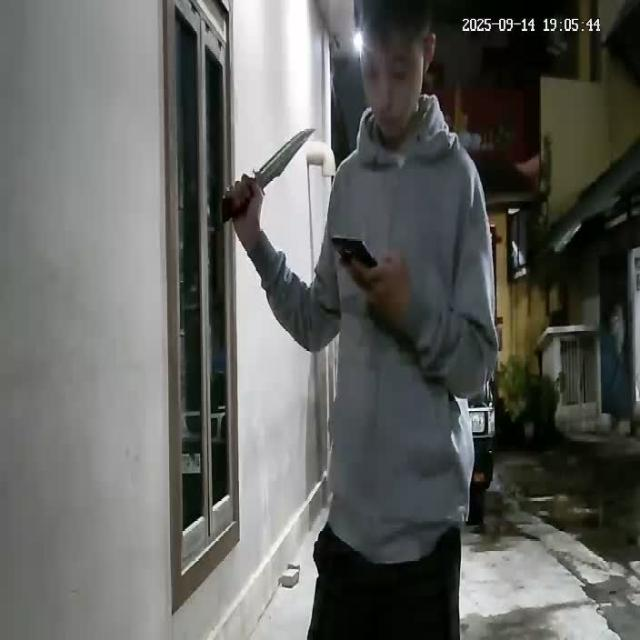senjata_tajam: (250, 124, 316, 198)
